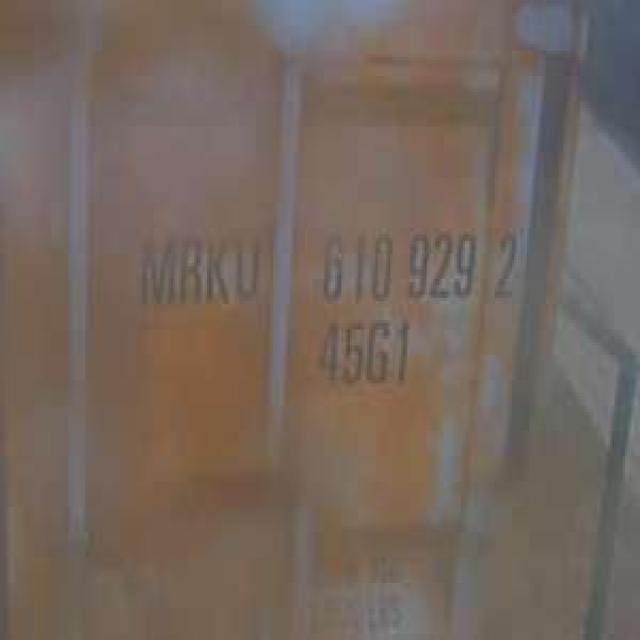dv: (486, 221, 526, 304)
owner: (135, 220, 264, 310)
serial: (308, 218, 478, 310)
size: (313, 314, 417, 391)
